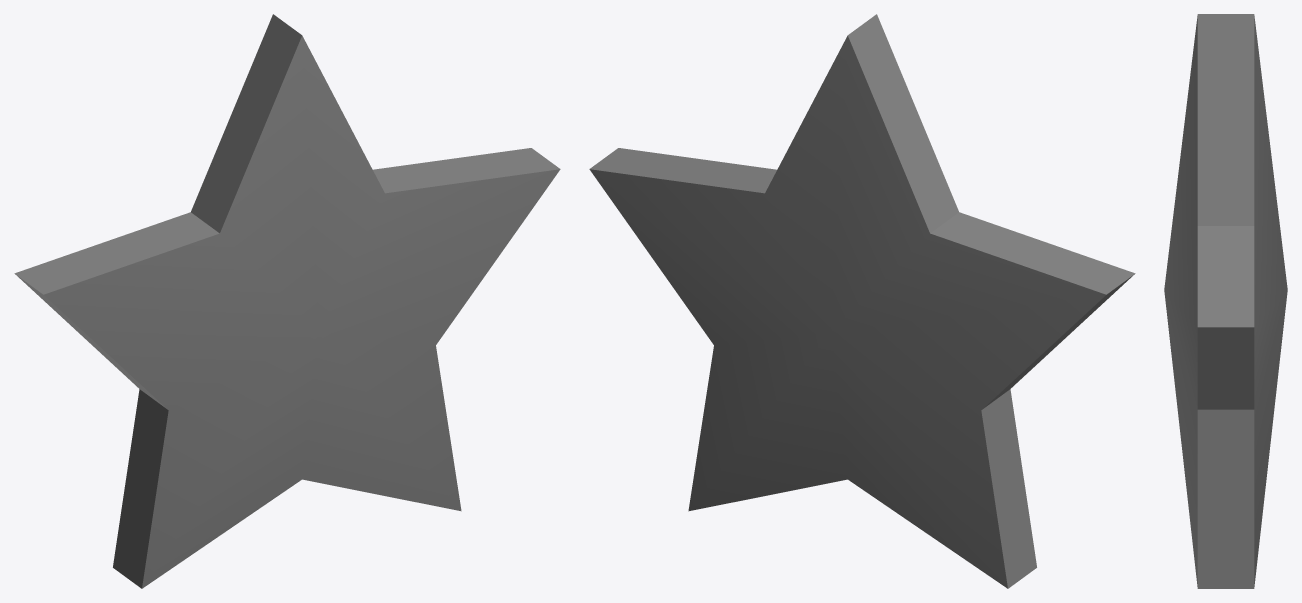
File: 01 star.FBX
3 renders of one model, left to right at view 1: azimuth 30°, elevation 25°; view 2: azimuth 150°, elevation 25°; view 3: azimuth 270°, elevation 25°, orthographic. The views are drawn at different scales.
Visible parts, largest first — view 1: SM_Icon_Star_01; view 2: SM_Icon_Star_01; view 3: SM_Icon_Star_01.
Part boxes in pixels (x1=…): SM_Icon_Star_01: x1=14, y1=14, x2=560, y2=588; SM_Icon_Star_01: x1=589, y1=14, x2=1135, y2=588; SM_Icon_Star_01: x1=1164, y1=14, x2=1287, y2=588.
Bounding box in the file's own units: 51.23 × 48.74 × 10.92.
